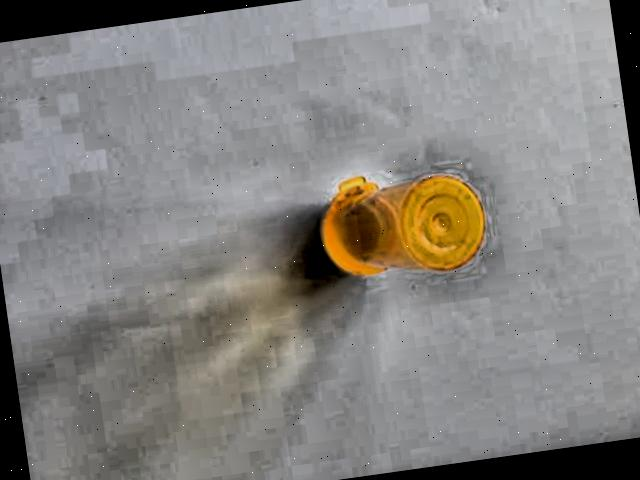Plastic: (270, 138, 525, 326)
